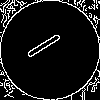I: (25, 25, 71, 61)
